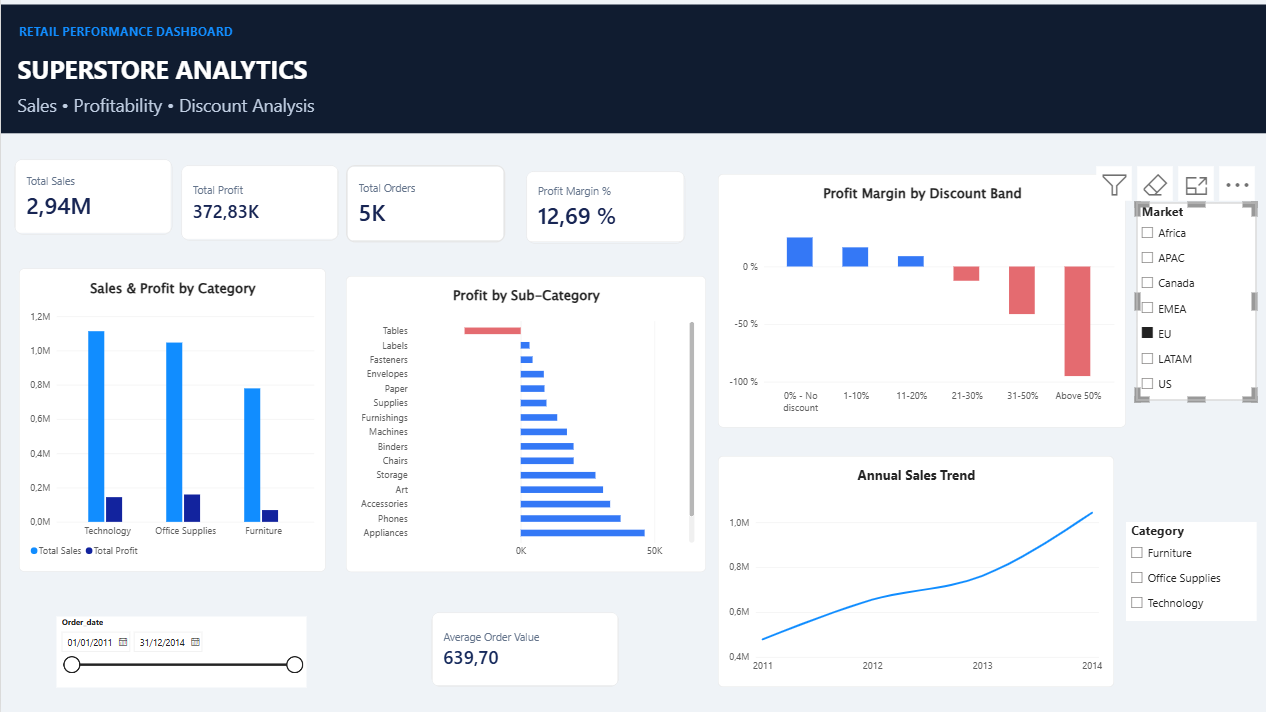

This screenshot's page, from the dashboard's own definition file:
{"tool":"powerbi","page":{"name":"Page 1","canvas":[1920,1080],"ordinal":0},"visuals":[{"type":"shape","box":[0,7.3,1919.5,195.1],"z":0},{"type":"cardVisual","fields":{"Data":["Superstore Sales.Total Sales"]},"box":[20.5,240.9,239,114.6],"z":1000},{"type":"cardVisual","fields":{"Data":["Superstore Sales.Total Profit"]},"box":[272.7,250,239,114.6],"z":2000},{"type":"cardVisual","fields":{"Data":["Superstore Sales.Total Orders"]},"box":[522.7,250,241.5,117.1],"z":3000},{"type":"cardVisual","fields":{"Data":["Superstore Sales.Profit Margin %"]},"box":[795.5,259.1,241.5,109.8],"z":4000},{"type":"clusteredColumnChart","title":"Sales & Profit by Category","fields":{"Category":["Superstore Sales.category"],"Y":["Superstore Sales.Total Sales","Superstore Sales.Total Profit"]},"box":[27.3,406.8,464.9,459.2],"z":5000},{"type":"clusteredBarChart","title":"Profit by Sub-Category","fields":{"Category":["Superstore Sales.sub_category"],"Y":["Superstore Sales.Total Profit"]},"box":[522.7,418.2,545.2,448.4],"z":6000},{"type":"clusteredColumnChart","title":"Profit Margin by Discount Band","fields":{"Category":["Superstore Sales.Discount Band"],"Y":["Superstore Sales.Profit Margin %"]},"box":[1086.4,263.6,618.2,384.1],"z":7000},{"type":"slicer","fields":{"Values":["Superstore Sales.category"]},"box":[1704.5,790.9,197.7,150],"z":8000},{"type":"slicer","fields":{"Values":["Superstore Sales.market"]},"box":[1720.5,306.8,181.8,300],"z":9000},{"type":"slicer","fields":{"Values":["Superstore Sales.order_date"]},"box":[81.8,934.1,379.5,106.8],"z":10000},{"type":"textbox","box":[24.4,80.5,497.6,61],"z":11000},{"type":"textbox","box":[24.4,141.5,526.8,61],"z":12000},{"type":"textbox","box":[26.8,34.1,526.8,61],"z":13000},{"type":"lineChart","title":"Annual Sales Trend","fields":{"Category":["Superstore Sales.order_date.Variation.Hiérarchie de dates.Année","Superstore Sales.order_date.Variation.Hiérarchie de dates.Mois"],"Y":["Superstore Sales.Total Sales"]},"box":[1086.4,690.9,600,350],"z":13001},{"type":"cardVisual","fields":{"Data":["Superstore Sales.Average Order Value"]},"box":[652.3,927.3,284.1,113.6],"z":13002}]}

Visuals, with their boxes in screenshot pixels (x1, y1, x2, y2), scaled from the page's 1920x1080 canvas onto the 1266x712 screenshot:
shape: [left=0, top=5, right=1265, bottom=133]
cardVisual - Superstore Sales.Total Sales: [left=14, top=159, right=171, bottom=234]
cardVisual - Superstore Sales.Total Profit: [left=180, top=165, right=337, bottom=240]
cardVisual - Superstore Sales.Total Orders: [left=345, top=165, right=504, bottom=242]
cardVisual - Superstore Sales.Profit Margin %: [left=525, top=171, right=684, bottom=243]
"Sales & Profit by Category" clusteredColumnChart: [left=18, top=268, right=325, bottom=571]
"Profit by Sub-Category" clusteredBarChart: [left=345, top=276, right=704, bottom=571]
"Profit Margin by Discount Band" clusteredColumnChart: [left=716, top=174, right=1124, bottom=427]
slicer - Superstore Sales.category: [left=1124, top=521, right=1254, bottom=620]
slicer - Superstore Sales.market: [left=1134, top=202, right=1254, bottom=400]
slicer - Superstore Sales.order_date: [left=54, top=616, right=304, bottom=686]
textbox: [left=16, top=53, right=344, bottom=93]
textbox: [left=16, top=93, right=363, bottom=134]
textbox: [left=18, top=22, right=365, bottom=63]
"Annual Sales Trend" lineChart: [left=716, top=455, right=1112, bottom=686]
cardVisual - Superstore Sales.Average Order Value: [left=430, top=611, right=617, bottom=686]
